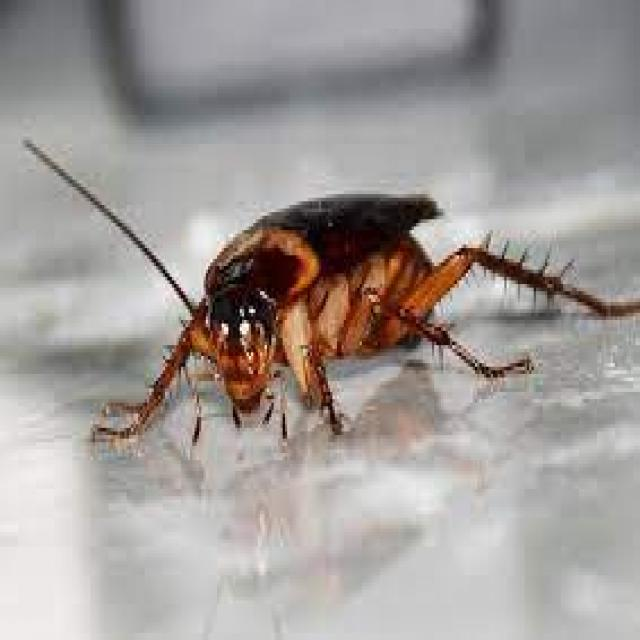Cockroach: (13, 117, 640, 488)
